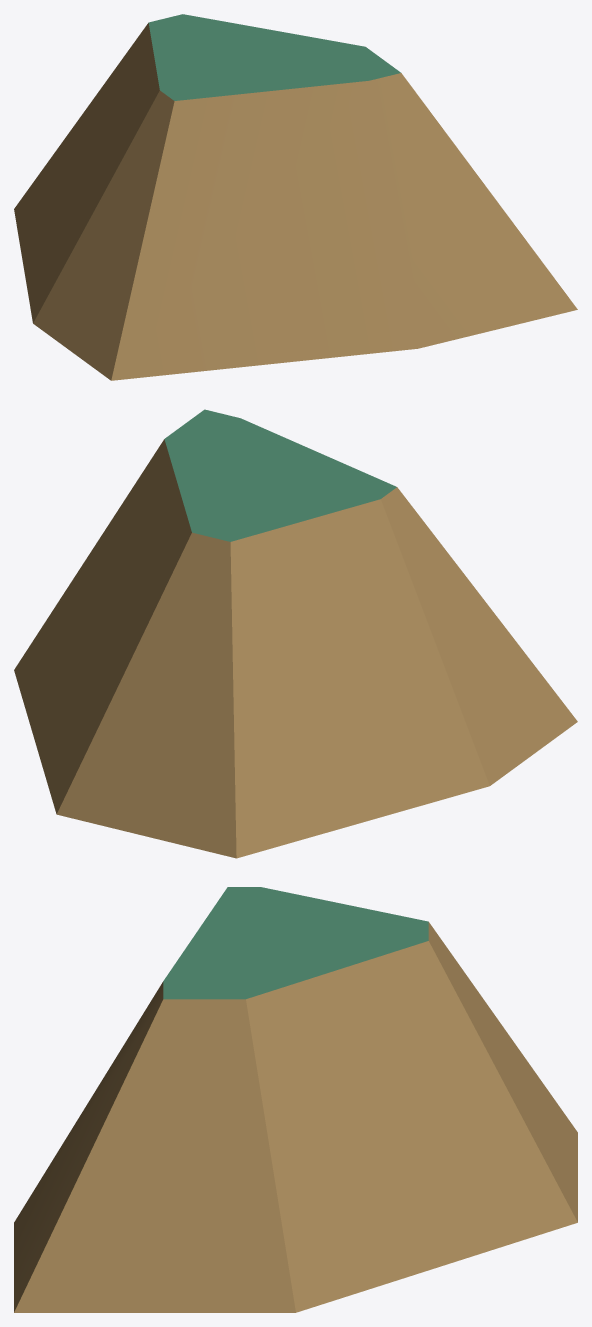
File: naturePack_021.fbx
The picture shows the model from 3 angles, top to bottom: view 1: azimuth 30°, elevation 25°; view 2: azimuth 150°, elevation 25°; view 3: azimuth 270°, elevation 25°; orthographic projection. The views are drawn at different scales.
Visible parts, largest first — view 1: Mesh1_Group1 Model; view 2: Mesh1_Group1 Model; view 3: Mesh1_Group1 Model.
Boxes of the visible parts, <box> form: Mesh1_Group1 Model: <box>14,14,577,380</box>; Mesh1_Group1 Model: <box>14,409,577,858</box>; Mesh1_Group1 Model: <box>14,887,577,1312</box>.
Bounding box in the file's own units: 1 × 0.49 × 1.
